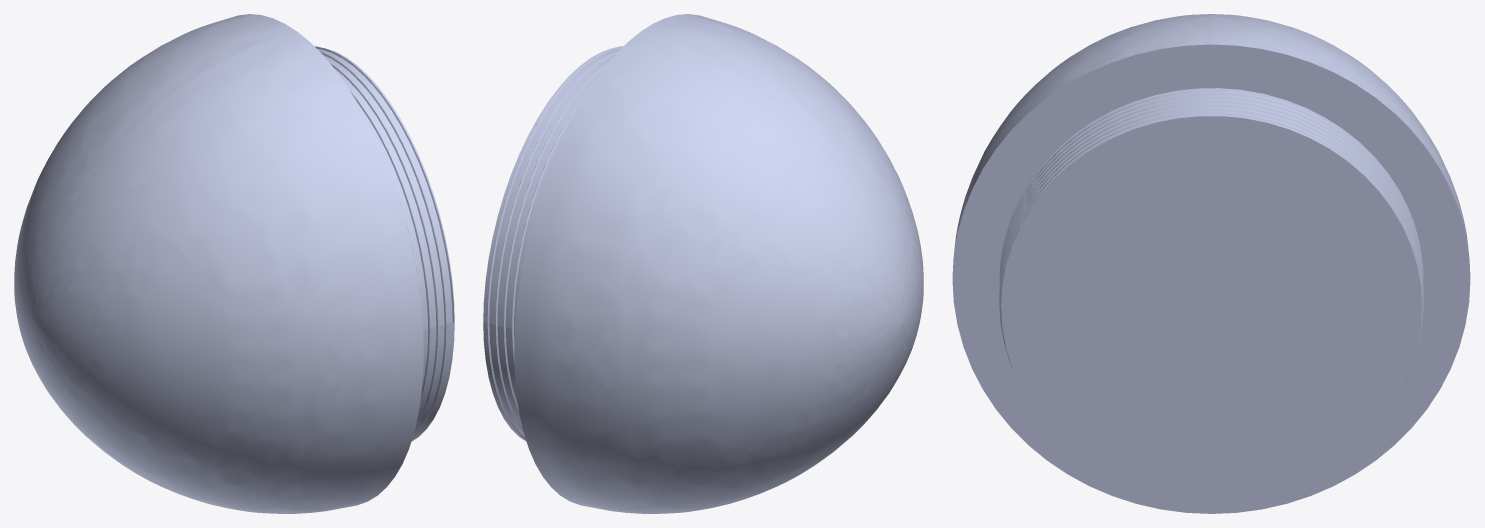
Rendered from Drohne_Kopf.glb.
The picture shows the model from 3 angles, left to right: view 1: azimuth 30°, elevation 25°; view 2: azimuth 150°, elevation 25°; view 3: azimuth 270°, elevation 25°; orthographic projection. The views are drawn at different scales.
Visible parts, largest first — view 1: empty_2; view 2: empty_2; view 3: empty_2.
Part boxes in pixels (x1,y1,x2,y2): empty_2: (14,14,454,513); empty_2: (483,14,923,513); empty_2: (952,14,1470,513).
Bounding box in the file's own units: 116 × 160 × 160.
